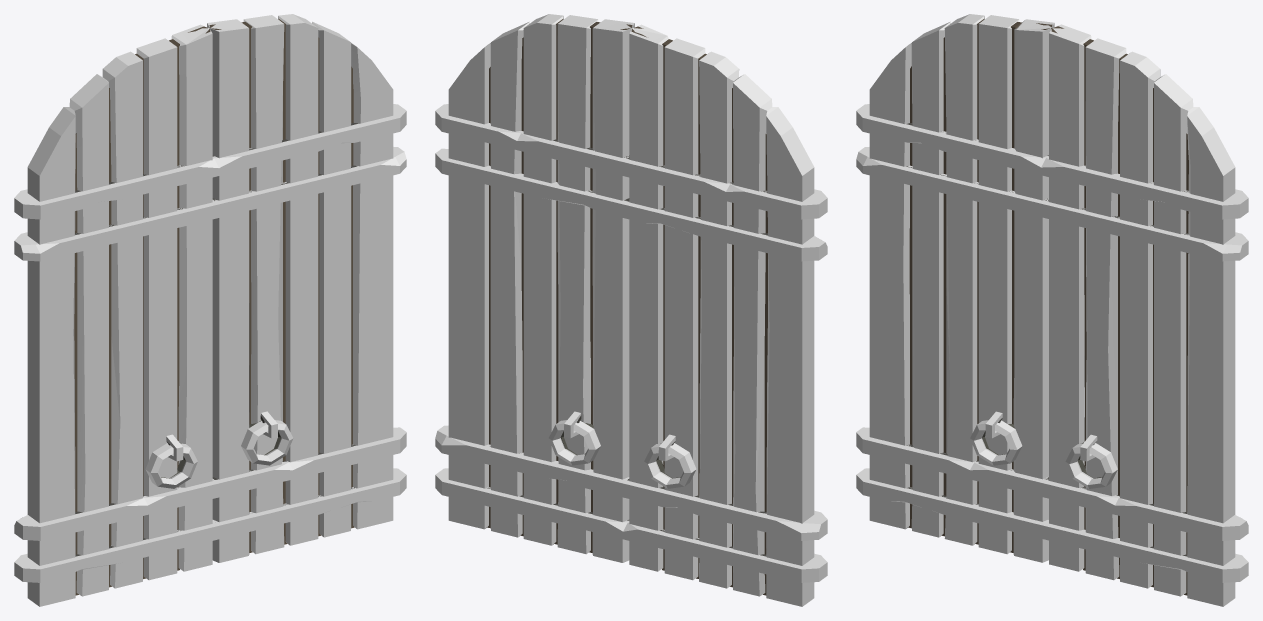
File: puerta.glb
3 views of the same model, side by side, from view 1: azimuth 30°, elevation 25°; view 2: azimuth 150°, elevation 25°; view 3: azimuth 330°, elevation 25° (orthographic).
Parts seen in each view (by area): view 1: SM_Bld_Castle_Wall_Door_Big_Door_02.001, SM_Bld_Castle_Wall_Door_Big_Door_01.001, SM_Bld_Castle_Wall_Door_Big_Door_02, SM_Bld_Castle_Wall_Door_Big_Door_01; view 2: SM_Bld_Castle_Wall_Door_Big_Door_02.001, SM_Bld_Castle_Wall_Door_Big_Door_01.001, SM_Bld_Castle_Wall_Door_Big_Door_01, SM_Bld_Castle_Wall_Door_Big_Door_02; view 3: SM_Bld_Castle_Wall_Door_Big_Door_01.001, SM_Bld_Castle_Wall_Door_Big_Door_02.001, SM_Bld_Castle_Wall_Door_Big_Door_02, SM_Bld_Castle_Wall_Door_Big_Door_01.
Part boxes in pixels (x1,y1,x2,y2): SM_Bld_Castle_Wall_Door_Big_Door_02.001: (14, 24, 218, 606); SM_Bld_Castle_Wall_Door_Big_Door_01.001: (207, 14, 406, 562); SM_Bld_Castle_Wall_Door_Big_Door_02: (74, 26, 210, 595); SM_Bld_Castle_Wall_Door_Big_Door_01: (209, 19, 359, 552); SM_Bld_Castle_Wall_Door_Big_Door_02.001: (623, 24, 827, 606); SM_Bld_Castle_Wall_Door_Big_Door_01.001: (435, 14, 634, 562); SM_Bld_Castle_Wall_Door_Big_Door_01: (487, 19, 632, 552); SM_Bld_Castle_Wall_Door_Big_Door_02: (627, 26, 767, 595); SM_Bld_Castle_Wall_Door_Big_Door_01.001: (1041, 24, 1248, 606); SM_Bld_Castle_Wall_Door_Big_Door_02.001: (856, 14, 1054, 562); SM_Bld_Castle_Wall_Door_Big_Door_02: (906, 19, 1052, 552); SM_Bld_Castle_Wall_Door_Big_Door_01: (1046, 26, 1189, 595).
Size of the model in its own units: 2.76 by 3.65 by 0.4134.
2 materials, 1 textured.
